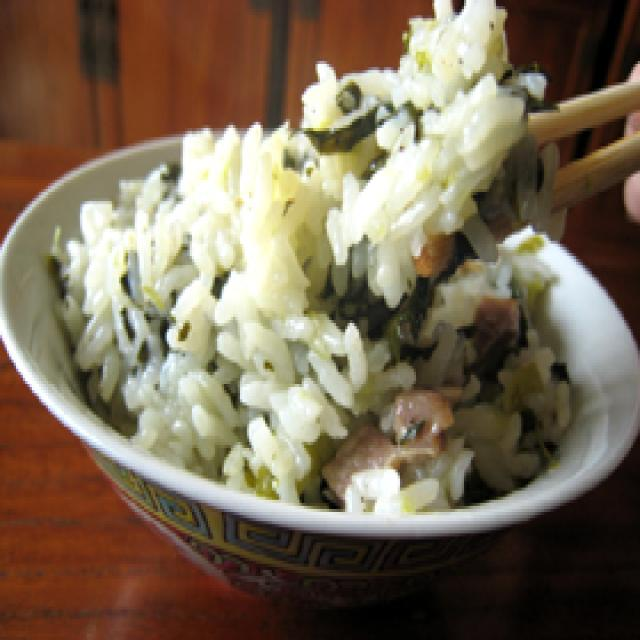米饭主食: (2, 3, 629, 622)
